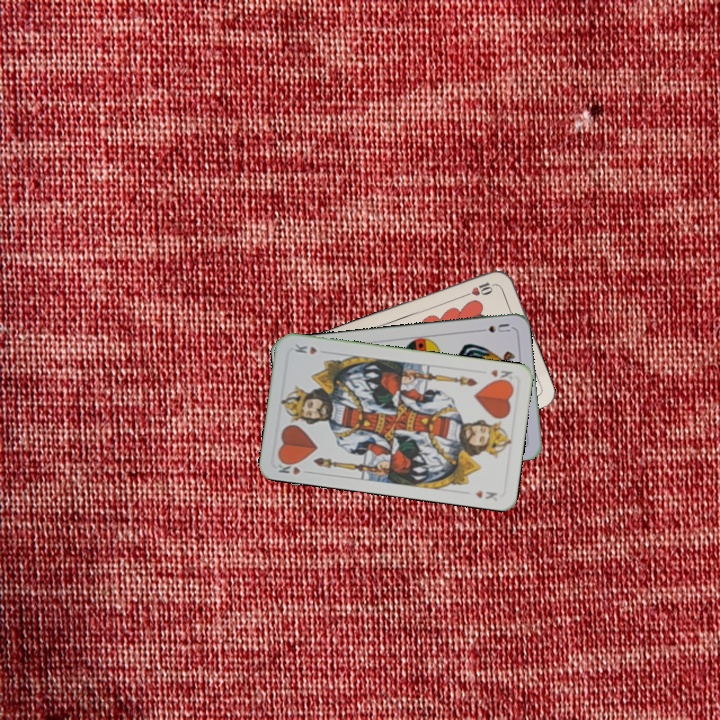H10: (459, 278, 499, 299)
HK: (273, 456, 314, 477), (486, 365, 515, 386)
SU: (473, 319, 513, 335)
